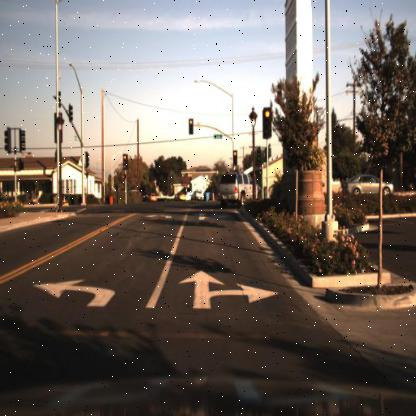car: (217, 172, 262, 204), (172, 189, 189, 205), (175, 189, 190, 205), (146, 192, 157, 209), (190, 190, 203, 202)
trafficLight-Red: (260, 106, 274, 144), (187, 115, 196, 135), (123, 149, 131, 170), (264, 106, 272, 123), (232, 148, 238, 166), (187, 117, 194, 130), (231, 147, 237, 158), (122, 152, 127, 164)
